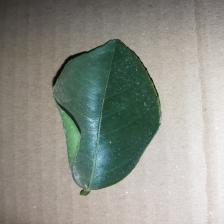healthy: (24, 34, 156, 194)
